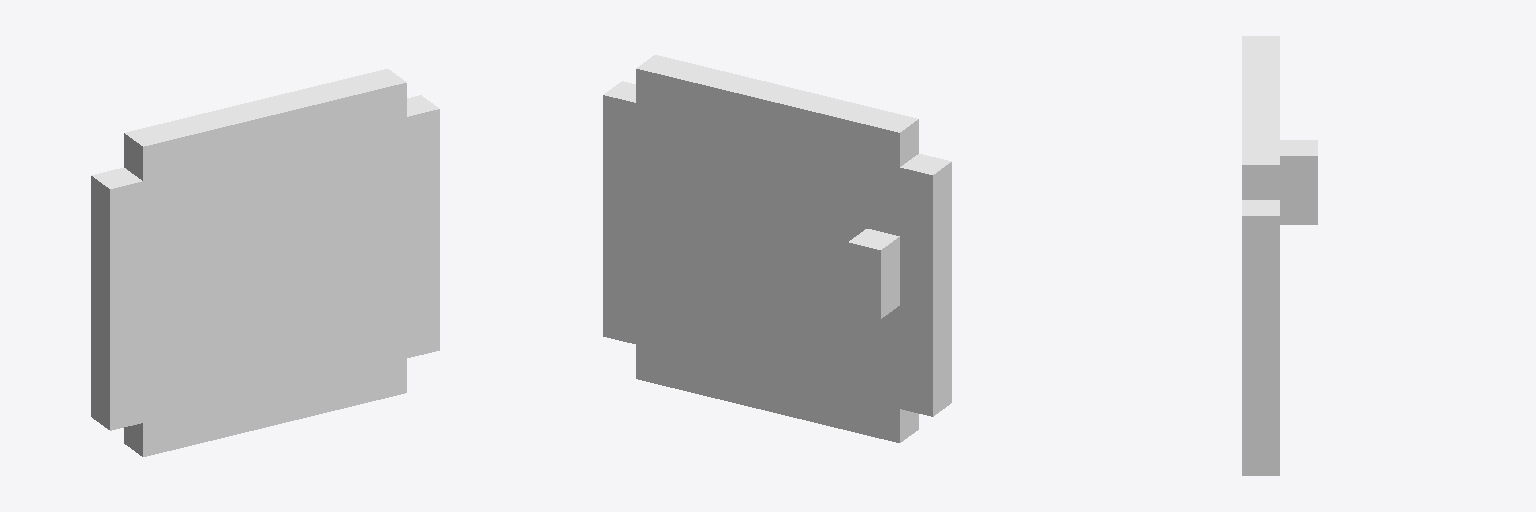
File: elec_doors-2.obj
3 views of the same model, side by side, from view 1: azimuth 30°, elevation 25°; view 2: azimuth 150°, elevation 25°; view 3: azimuth 270°, elevation 25° (orthographic).
Visible parts, largest first — view 1: object 1; view 2: object 1; view 3: object 1.
Boxes of the visible parts, x1,y1,x2,y2 form: object 1: [91, 69, 439, 456]; object 1: [603, 55, 951, 442]; object 1: [1242, 36, 1317, 475].
Bounding box in the file's own units: 1 × 0.9 × 0.2.